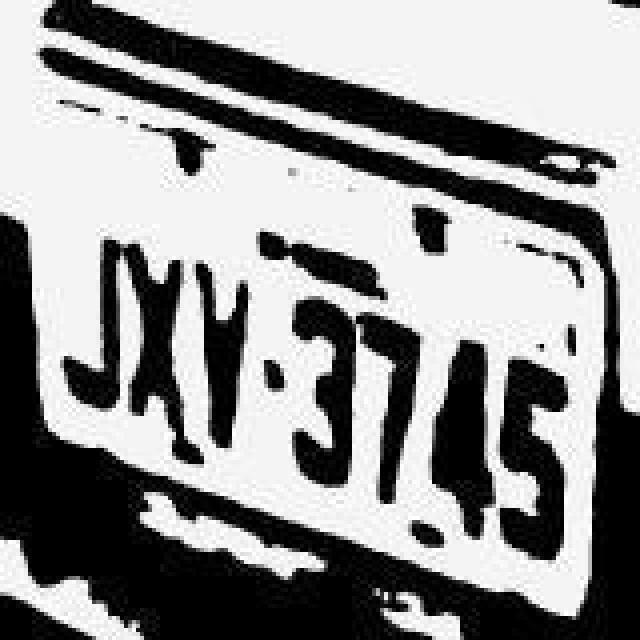3: (282, 294, 358, 514)
4: (430, 298, 498, 534)
5: (500, 354, 572, 574)
7: (358, 300, 426, 516)
J: (54, 198, 122, 426)
V: (192, 256, 256, 464)
X: (126, 210, 194, 430)
